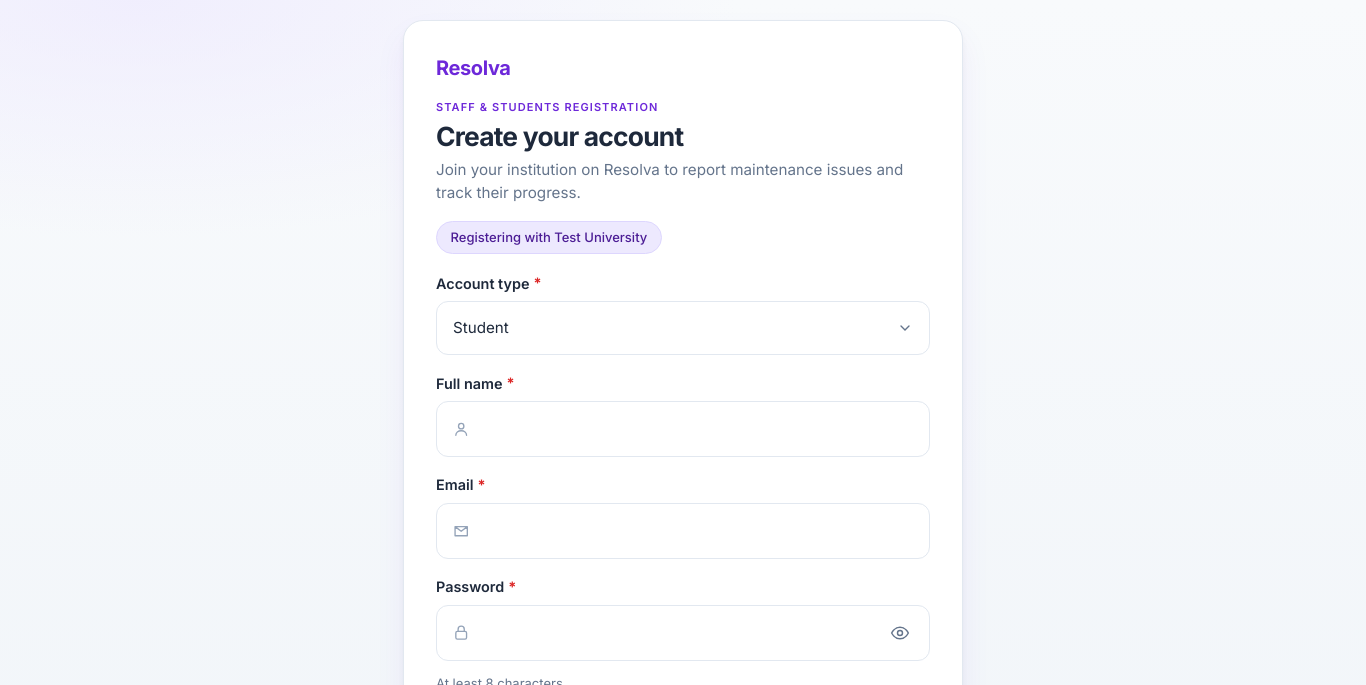
it: StudentRegisterPage › shows validation messages for empty and invalid fields
Expected: the text "Registering with Test University" is shown, [436, 221, 662, 254]
Clear the field labelled "Full name *". click: (683, 429)
box: [436, 401, 930, 457]
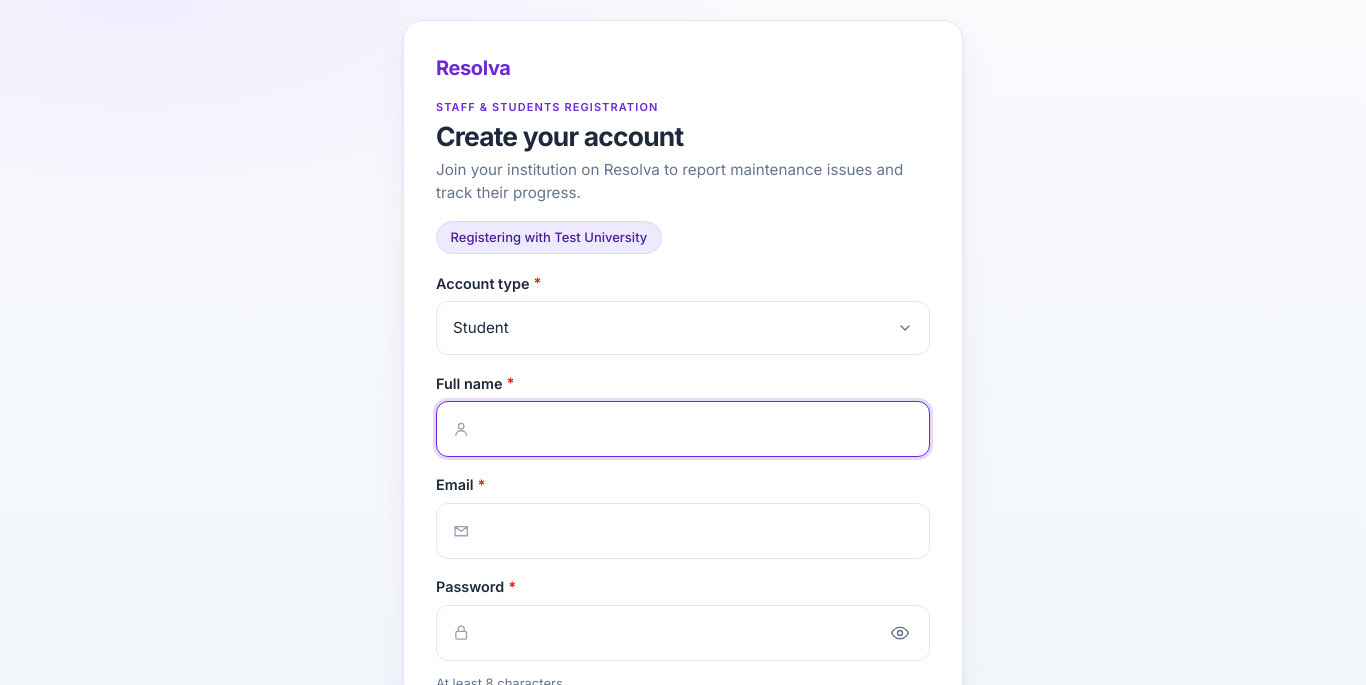
Clear the field labelled "Email *". click: (683, 531)
box: [436, 503, 930, 559]
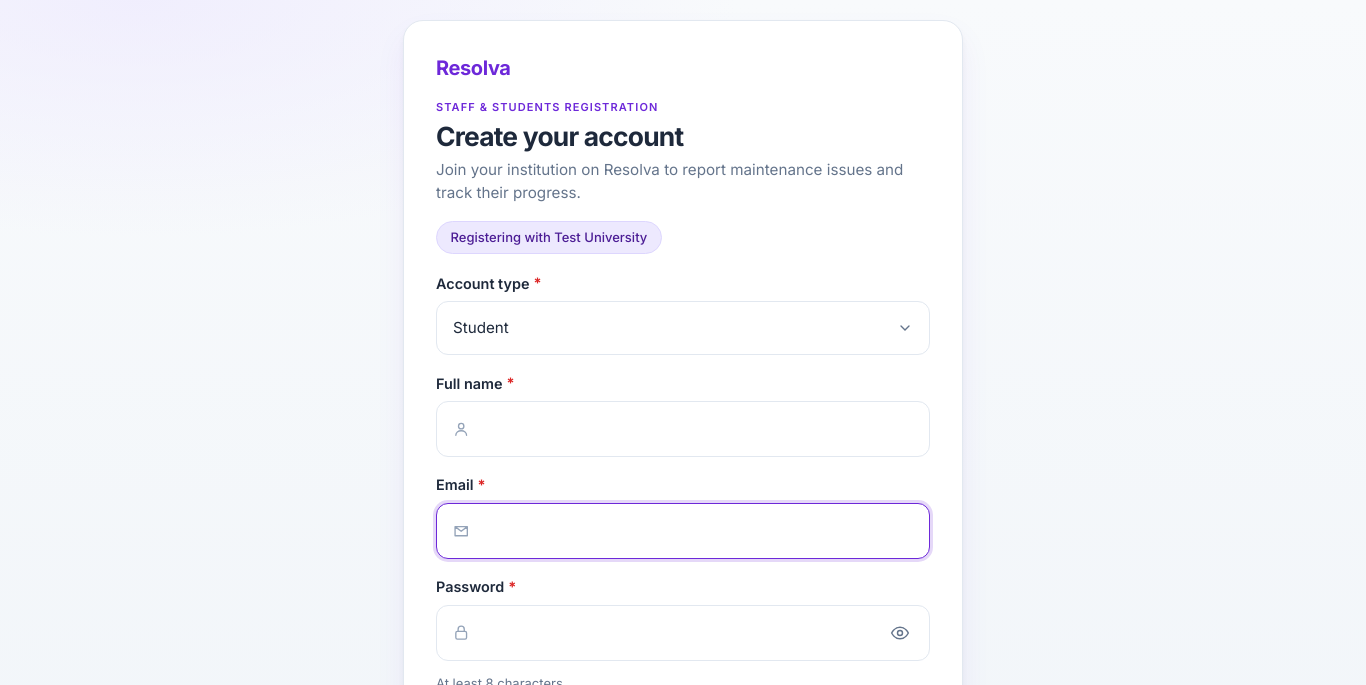
Clear the password field labelled "Password *". click: (683, 633)
box: [436, 605, 930, 661]
(page scrolled)
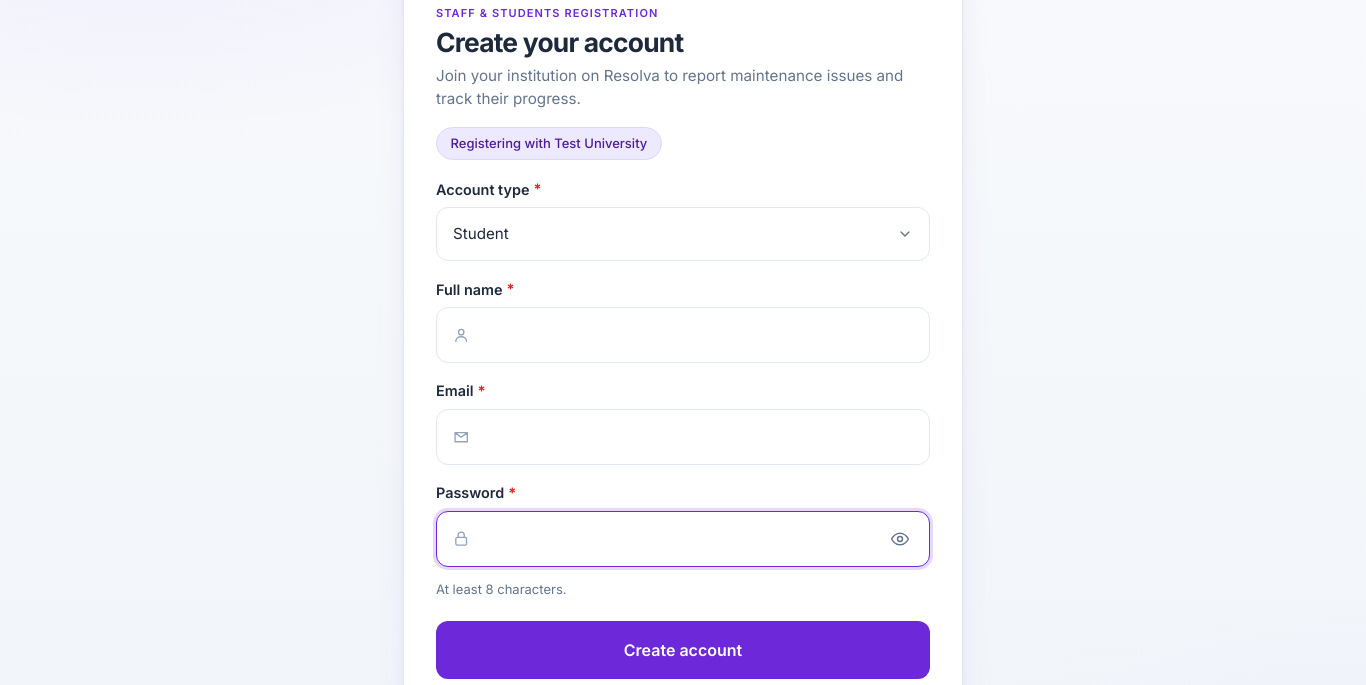
Click the button "Create account". click: (683, 650)
box: [436, 621, 930, 679]
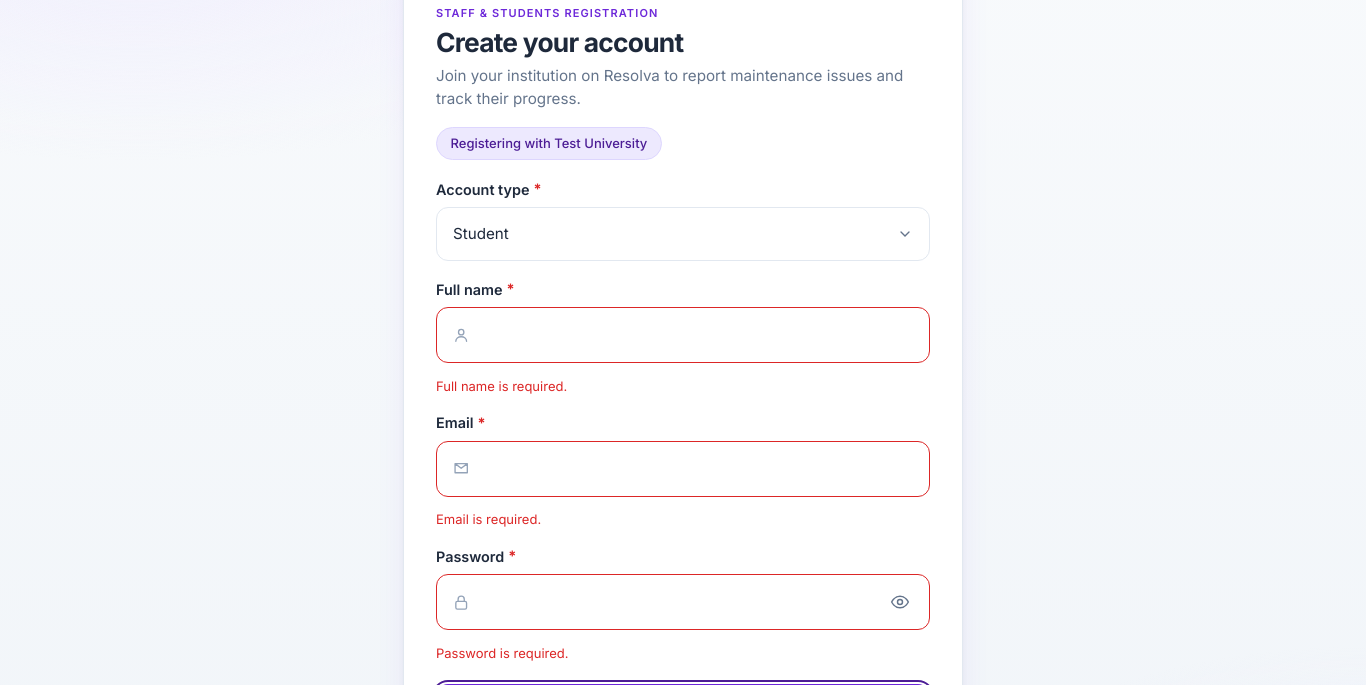
Expected: the text "Full name is required." is shown, [436, 378, 567, 394]
Expected: the text "Email is required." is shown, [436, 511, 541, 527]
Expected: the text "Password is required." is shown, [436, 645, 568, 661]
